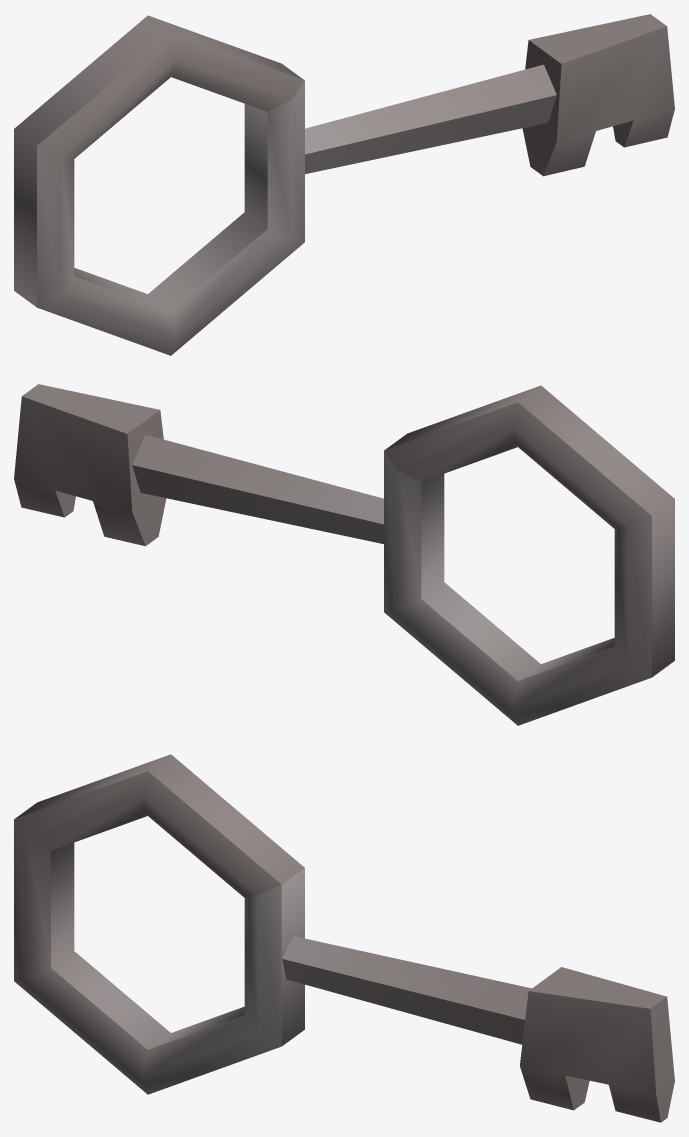
File: KeyBrohken.fbx
3 views of the same model, one above another, from view 1: azimuth 30°, elevation 25°; view 2: azimuth 150°, elevation 25°; view 3: azimuth 330°, elevation 25° (orthographic).
Parts seen in each view (by area): view 1: KeyBrohken_PieceA, KeyBrohken_PieceB; view 2: KeyBrohken_PieceA, KeyBrohken_PieceB; view 3: KeyBrohken_PieceA, KeyBrohken_PieceB.
Boxes of the visible parts, x1,y1,x2,y2 form: KeyBrohken_PieceA: [14, 15, 427, 355]; KeyBrohken_PieceB: [396, 14, 674, 176]; KeyBrohken_PieceA: [261, 385, 674, 725]; KeyBrohken_PieceB: [14, 384, 292, 546]; KeyBrohken_PieceA: [14, 754, 403, 1094]; KeyBrohken_PieceB: [396, 958, 674, 1122].
Size of the model in its own units: 0.3889 by 0.1879 by 0.0388.
